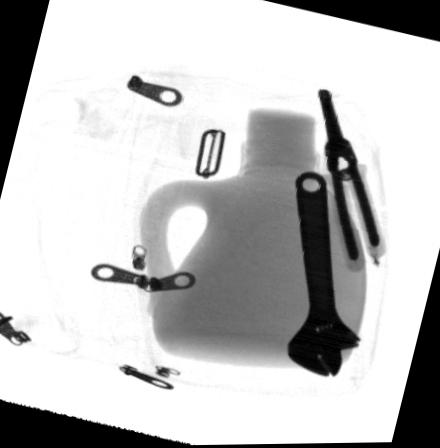Pliers: (317, 89, 379, 261)
Wrench: (282, 171, 362, 380)
